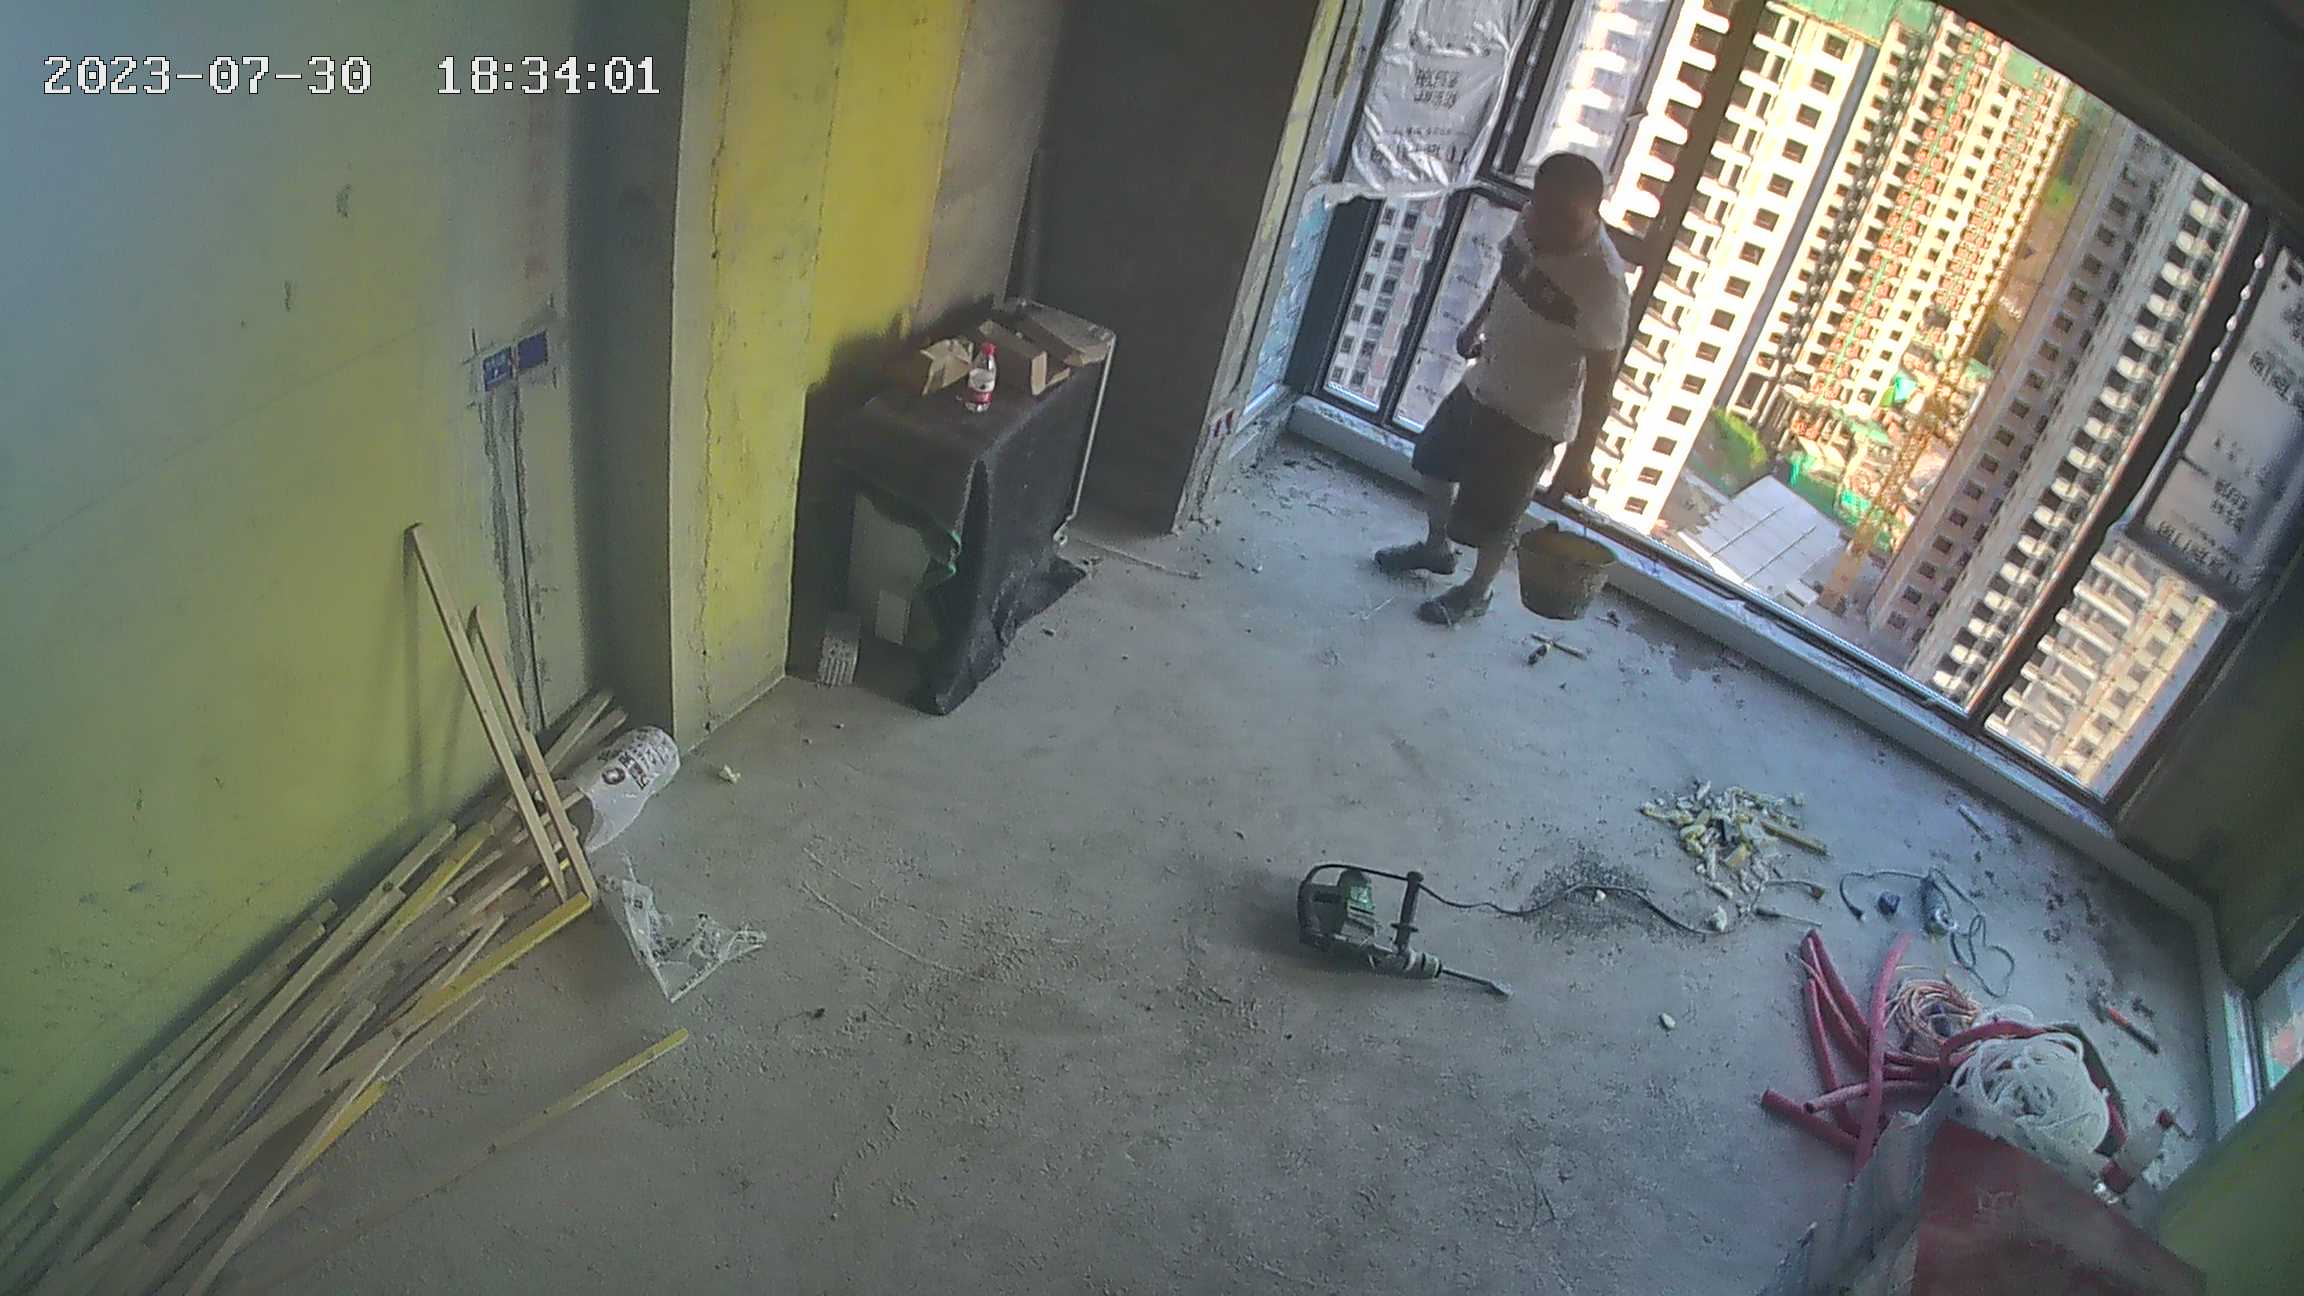people: (1372, 149, 1631, 630)
window: (1331, 8, 2304, 832)
